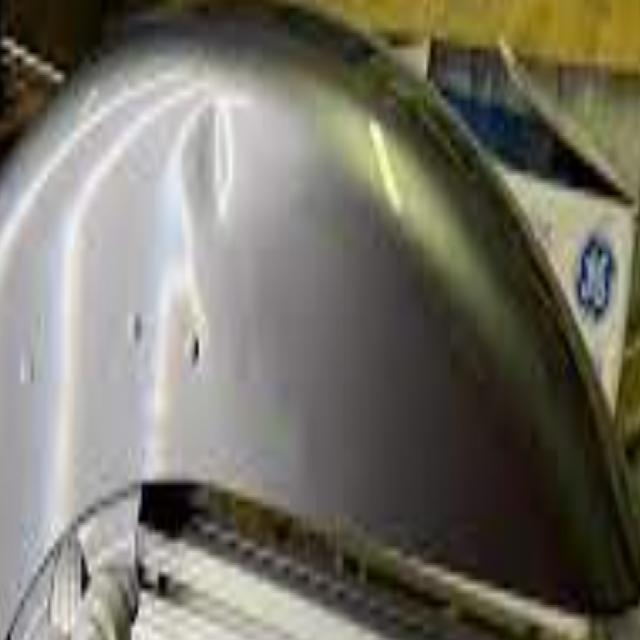dents: (168, 110, 242, 246)
